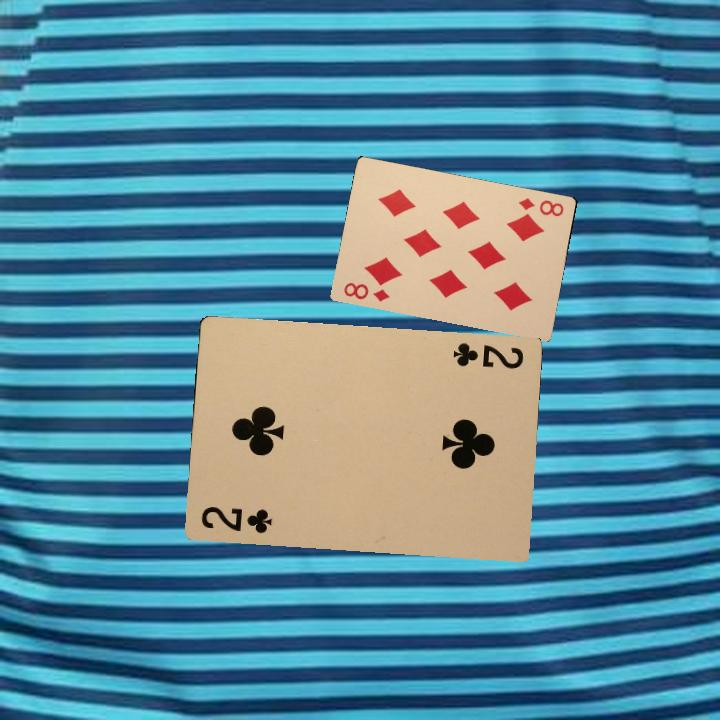2c: (197, 502, 275, 536), (449, 338, 526, 372)
8d: (340, 278, 392, 304), (515, 194, 566, 219)
